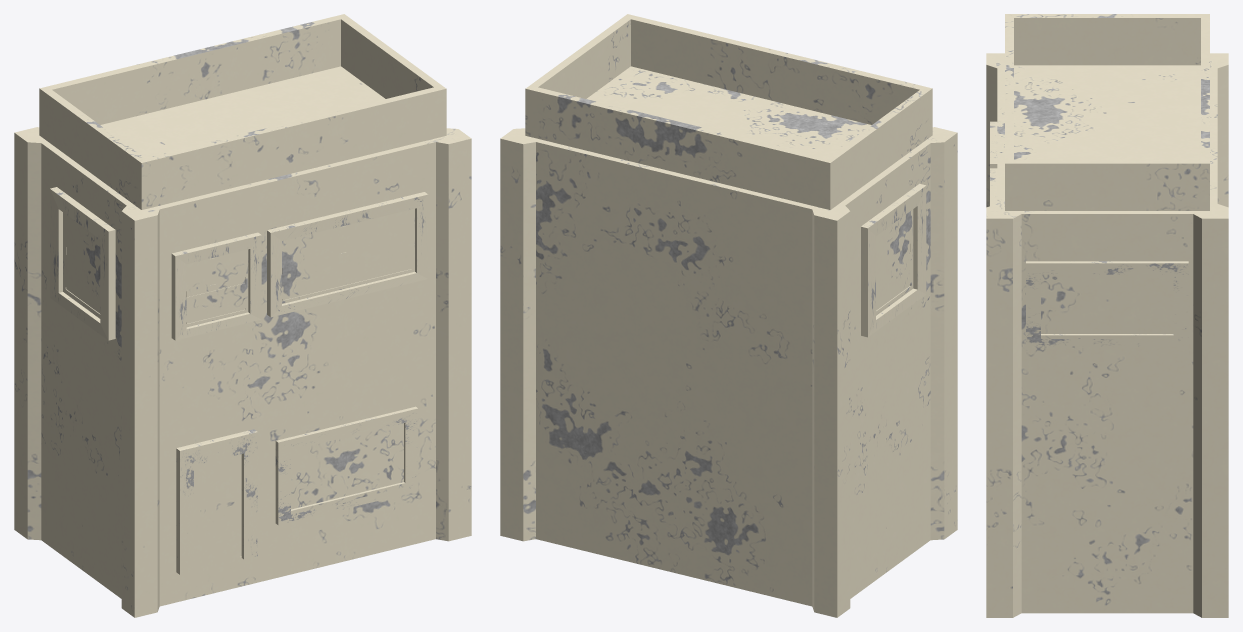
The model's file is buildig.001_peeling_paint_(concrete)_(white)_0.001_lev3.glb.
3 renders of one model, left to right at view 1: azimuth 30°, elevation 25°; view 2: azimuth 150°, elevation 25°; view 3: azimuth 270°, elevation 25°, orthographic.
Visible parts, largest first — view 1: buildig.001_peeling_paint_(concrete)_(white)_0.001_lev3; view 2: buildig.001_peeling_paint_(concrete)_(white)_0.001_lev3; view 3: buildig.001_peeling_paint_(concrete)_(white)_0.001_lev3.
Part boxes in pixels (x1=…): buildig.001_peeling_paint_(concrete)_(white)_0.001_lev3: x1=14, y1=14, x2=471, y2=617; buildig.001_peeling_paint_(concrete)_(white)_0.001_lev3: x1=500, y1=14, x2=957, y2=617; buildig.001_peeling_paint_(concrete)_(white)_0.001_lev3: x1=986, y1=14, x2=1228, y2=617.
Bounding box in the file's own units: 2.15 × 2.71 × 1.33.
1 material, 1 textured.
